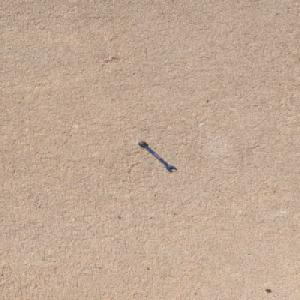Wrench: (137, 141, 177, 172)
